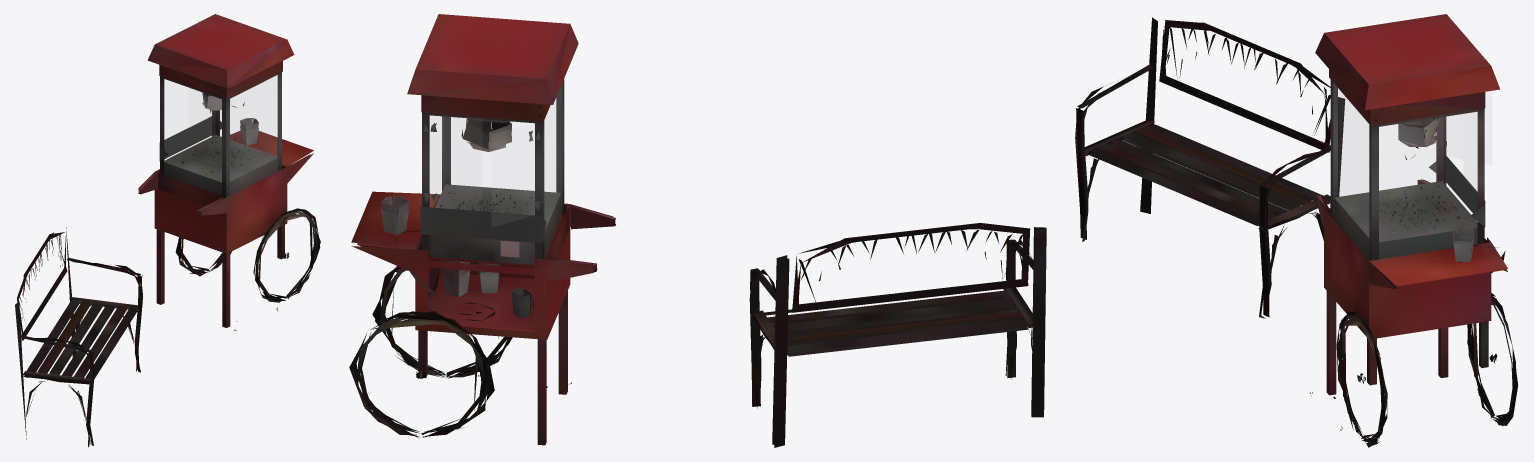
The model's file is popcorn_cart_far.glb.
The picture shows the model from 3 angles, left to right: view 1: azimuth 30°, elevation 25°; view 2: azimuth 150°, elevation 25°; view 3: azimuth 270°, elevation 25°; orthographic projection. The views are drawn at different scales.
Parts seen in each view (by area): view 1: baked, clear; view 2: baked, clear; view 3: baked, clear.
Part boxes in pixels (bbox=[...]): baked: bbox=[15, 14, 320, 447]; clear: bbox=[188, 76, 276, 155]; baked: bbox=[349, 14, 1046, 447]; clear: bbox=[430, 100, 555, 206]; baked: bbox=[1075, 14, 1517, 447]; clear: bbox=[1338, 89, 1476, 196].
Size of the model in its own units: 2.45 by 1.55 by 1.74.
Materials: 2 (1 with a texture image).
